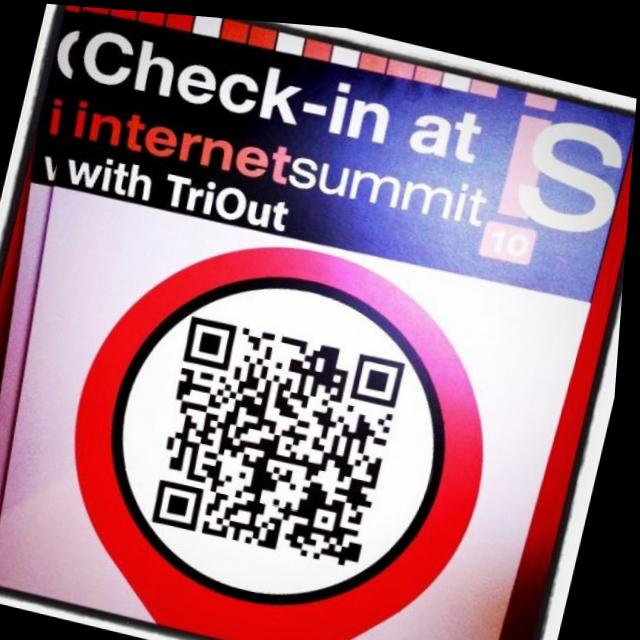qrcode: (151, 308, 412, 567)
